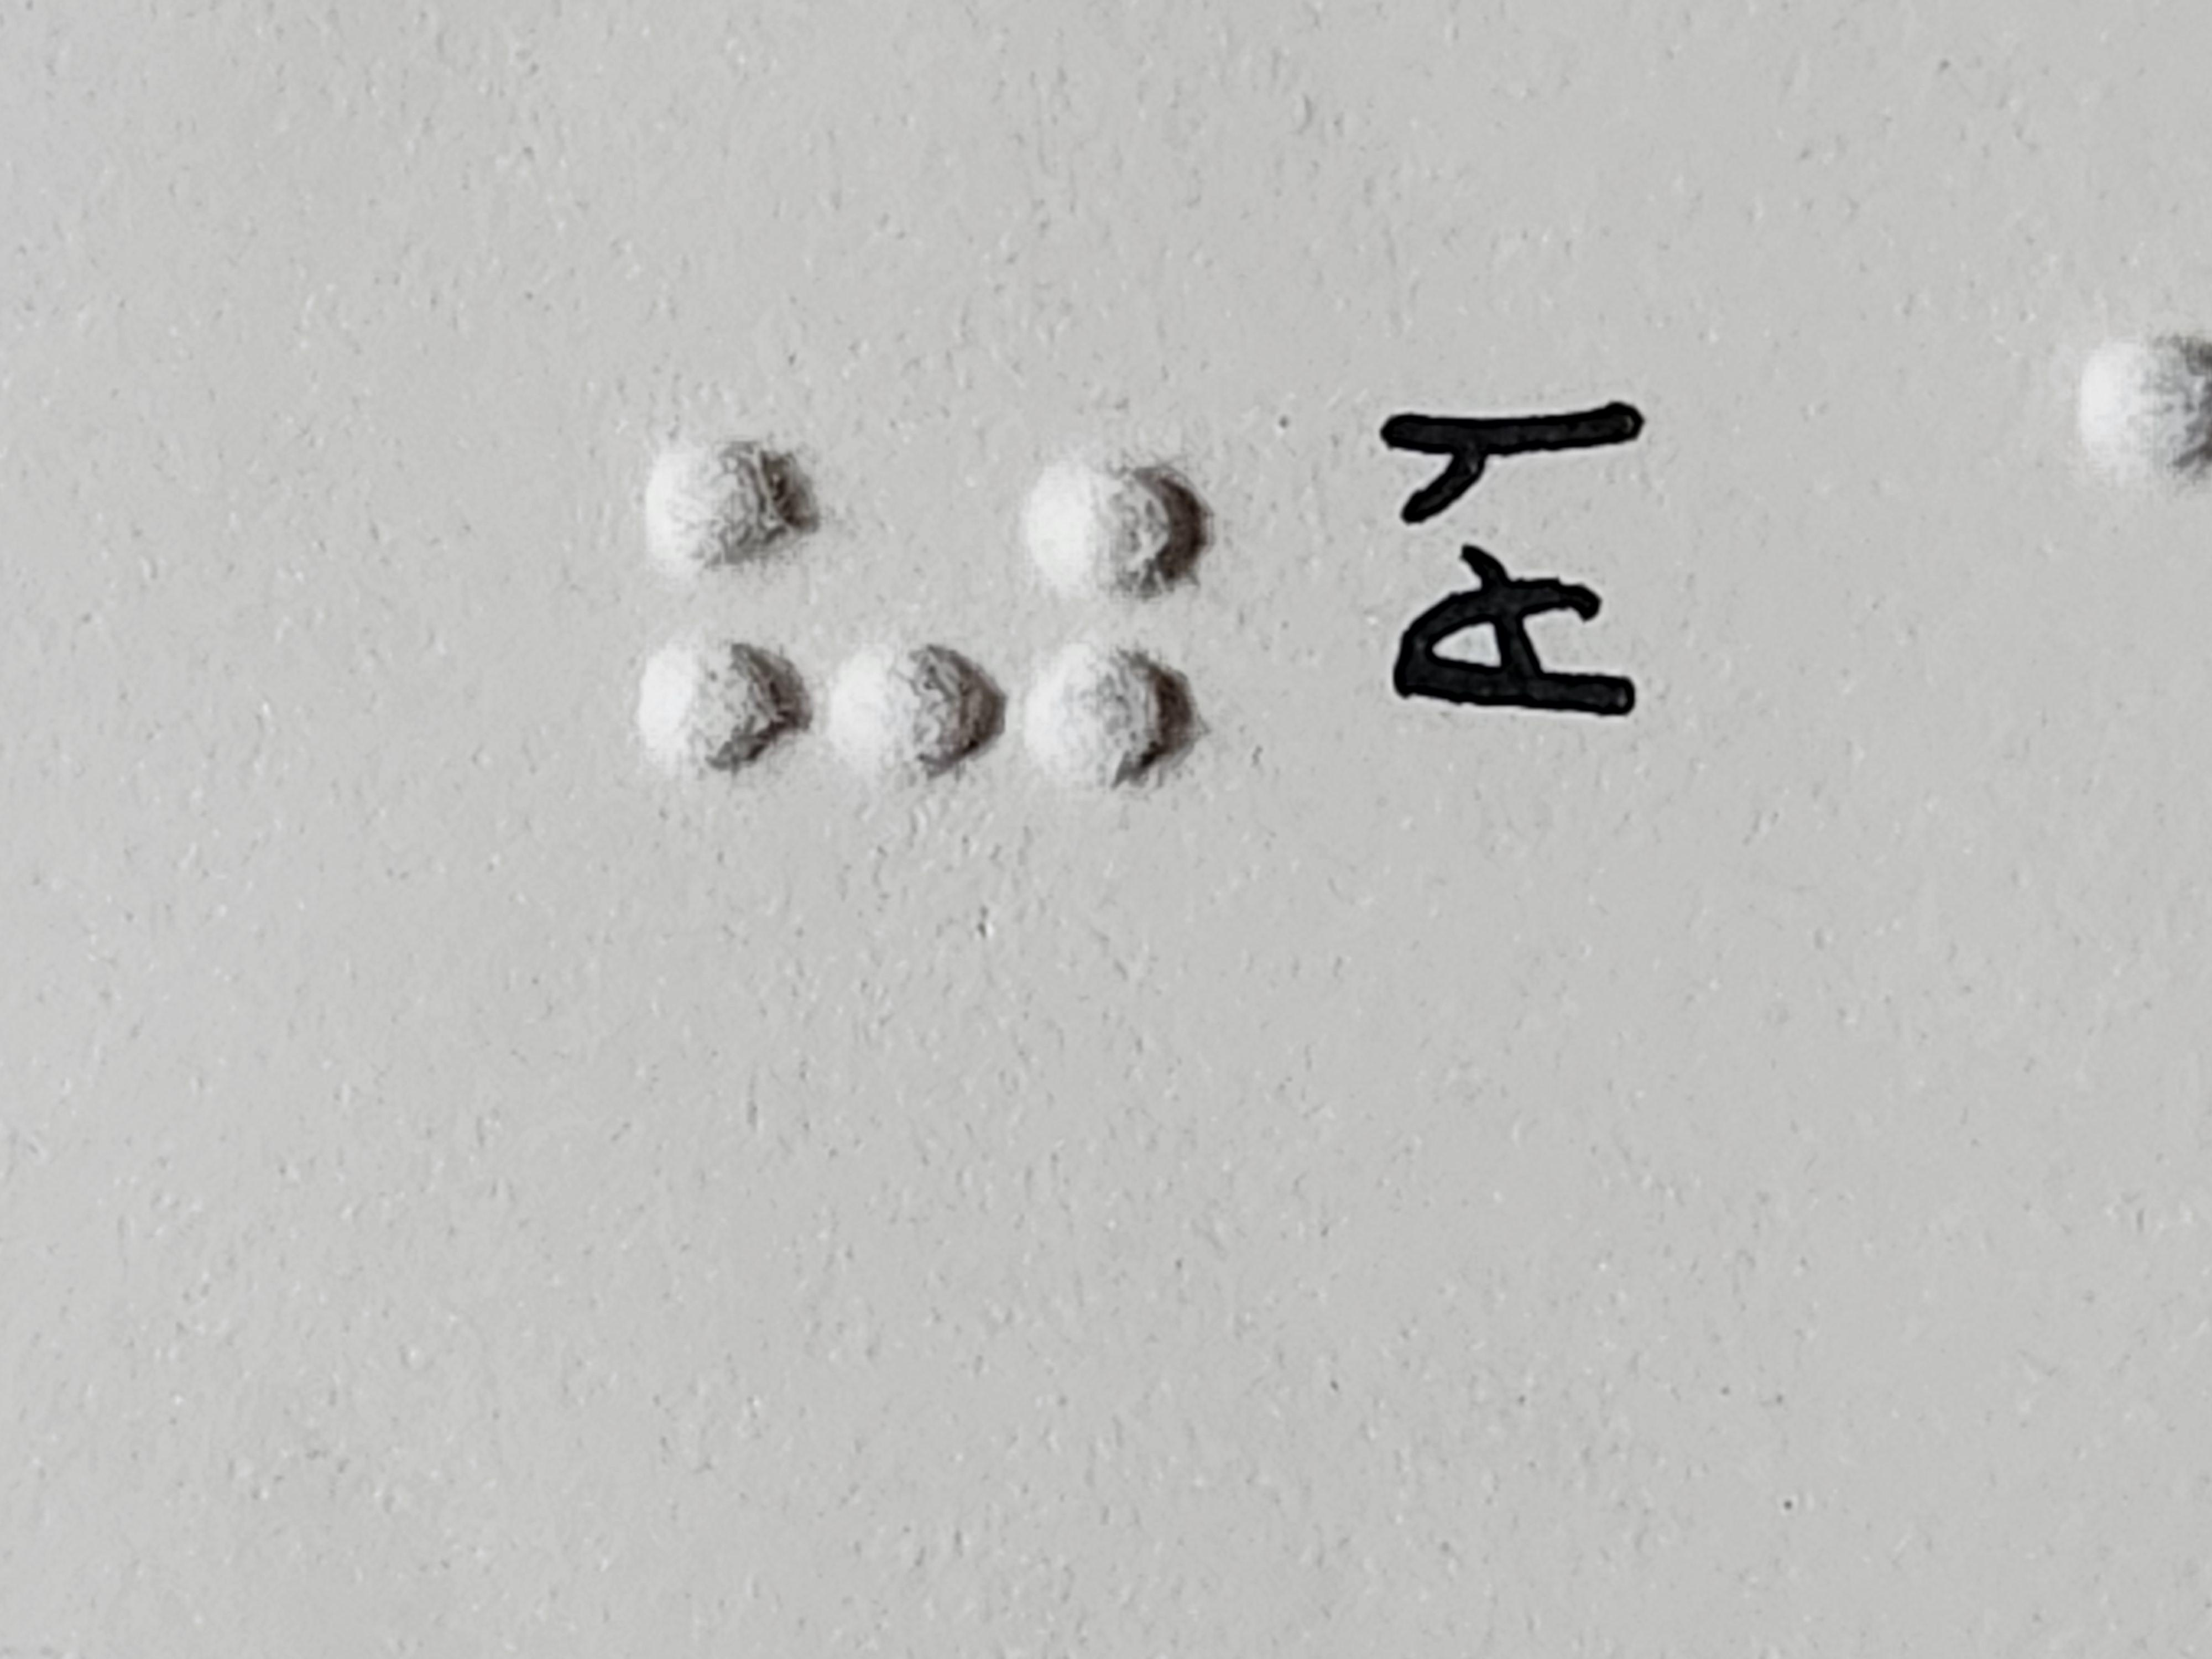one_cell_non_alphabet_ay: (1174, 477, 1611, 904)
